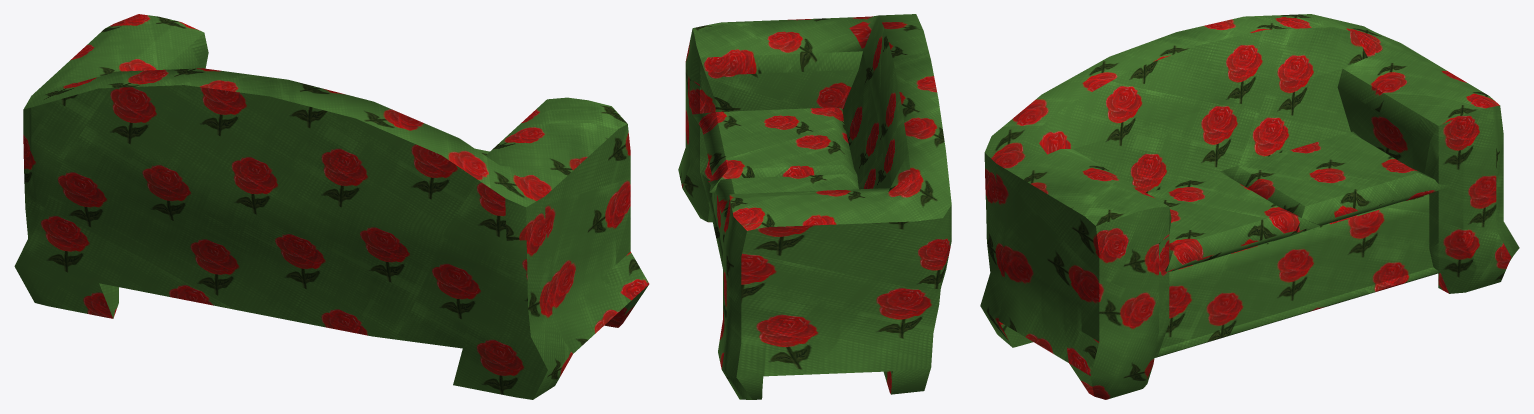
Rendered from Sofa.fbx.
The picture shows the model from 3 angles, left to right: view 1: azimuth 30°, elevation 25°; view 2: azimuth 150°, elevation 25°; view 3: azimuth 270°, elevation 25°; orthographic projection. The views are drawn at different scales.
Visible parts, largest first — view 1: pCube37; view 2: pCube37; view 3: pCube37.
Part boxes in pixels (x1,y1,x2,y2): pCube37: (14, 14, 649, 399); pCube37: (678, 14, 951, 399); pCube37: (980, 14, 1519, 399).
Bounding box in the file's own units: 3.68 × 2.04 × 4.26.
1 material, 1 textured.
